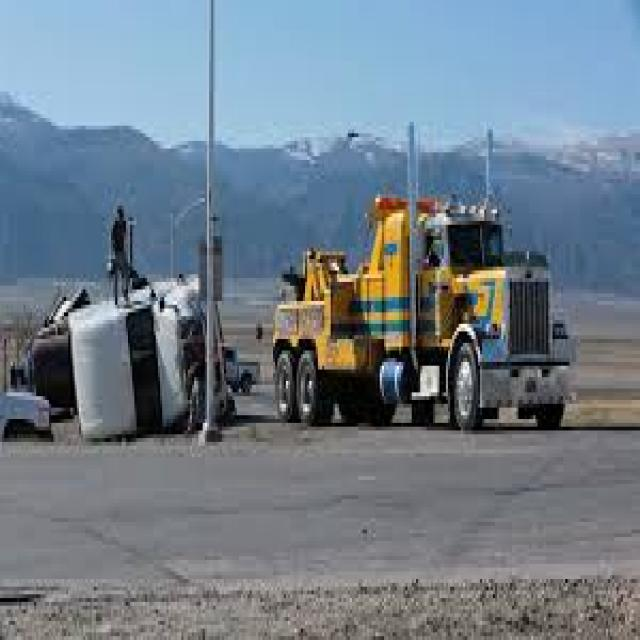accident: (8, 215, 253, 506)
